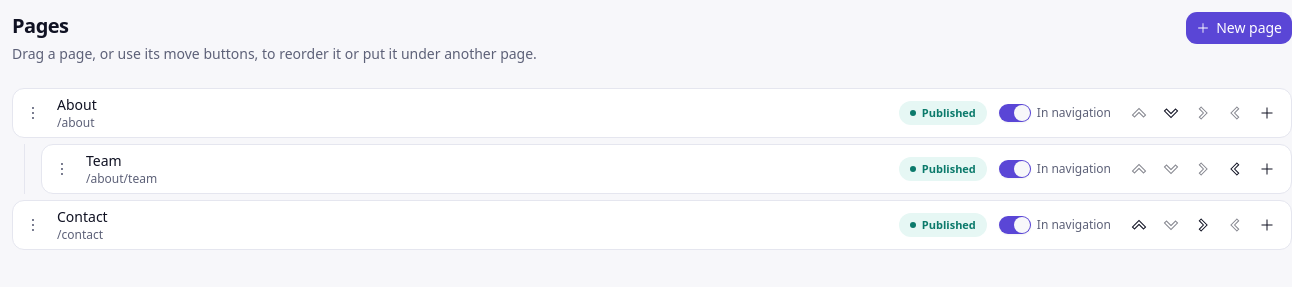
Test: Pages screen › shows the API's refusal on the page it refused
Click the button named "Move Contact into the page above": (1203, 225) [1187,209,1219,241]
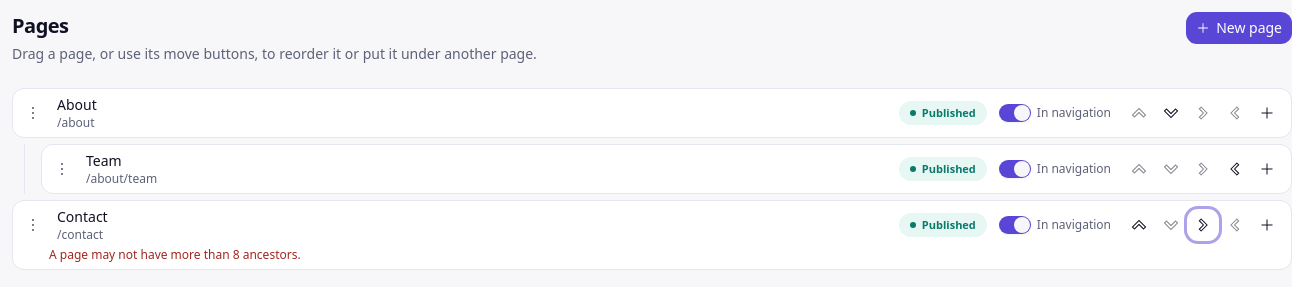
Expected: the message reads "A page may not have more than 8 ancestors.", [49,246,301,263]
